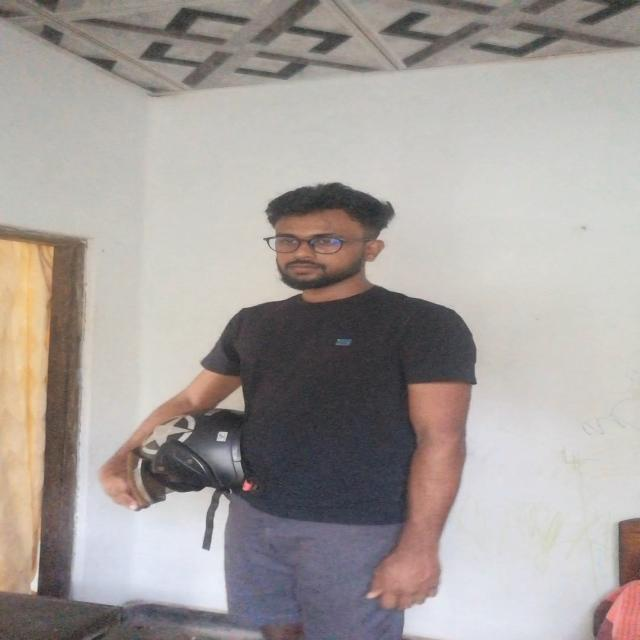Person: (111, 184, 485, 640)
